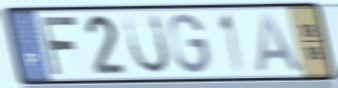1: (217, 9, 246, 77)
2: (86, 13, 131, 78)
A: (255, 10, 307, 75)
F: (37, 13, 80, 77)
G: (166, 11, 212, 76)
U: (121, 12, 172, 77)
